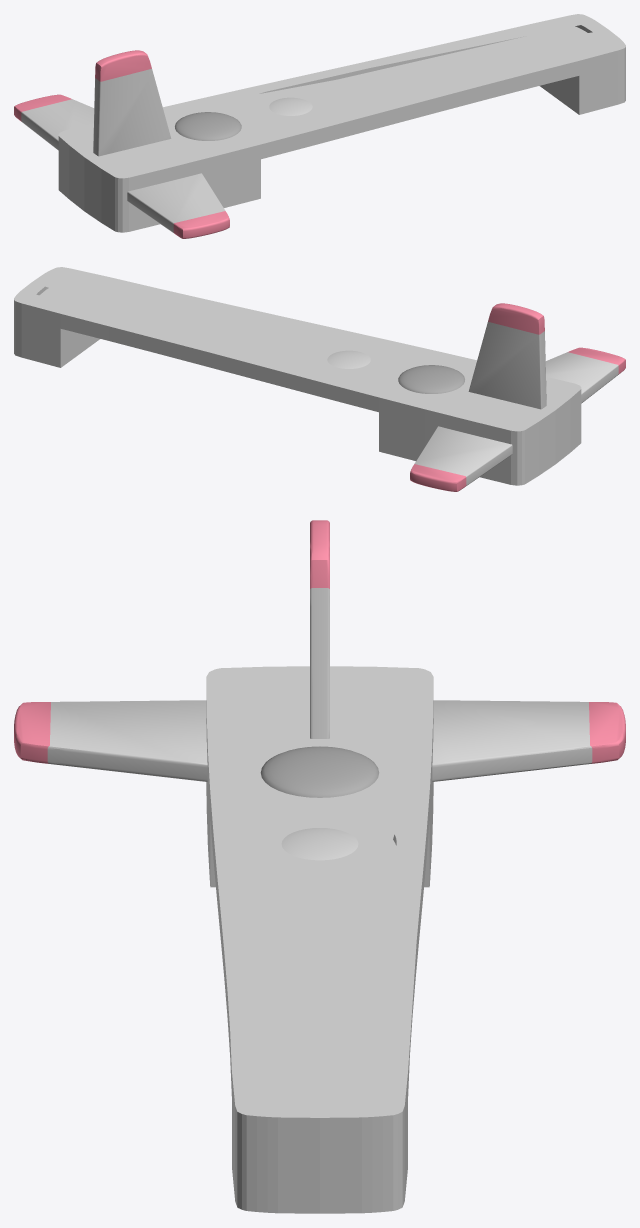
Rendered from Flipper.fbx.
The picture shows the model from 3 angles, top to bottom: view 1: azimuth 30°, elevation 25°; view 2: azimuth 150°, elevation 25°; view 3: azimuth 270°, elevation 25°; orthographic projection. The views are drawn at different scales.
Visible parts, largest first — view 1: Plane.001; view 2: Plane.001; view 3: Plane.001.
Part boxes in pixels (<box>): Plane.001: <box>14,14,625,238</box>; Plane.001: <box>14,267,625,491</box>; Plane.001: <box>14,520,625,1213</box>.
Size of the model in its own units: 470 by 126 by 269.
